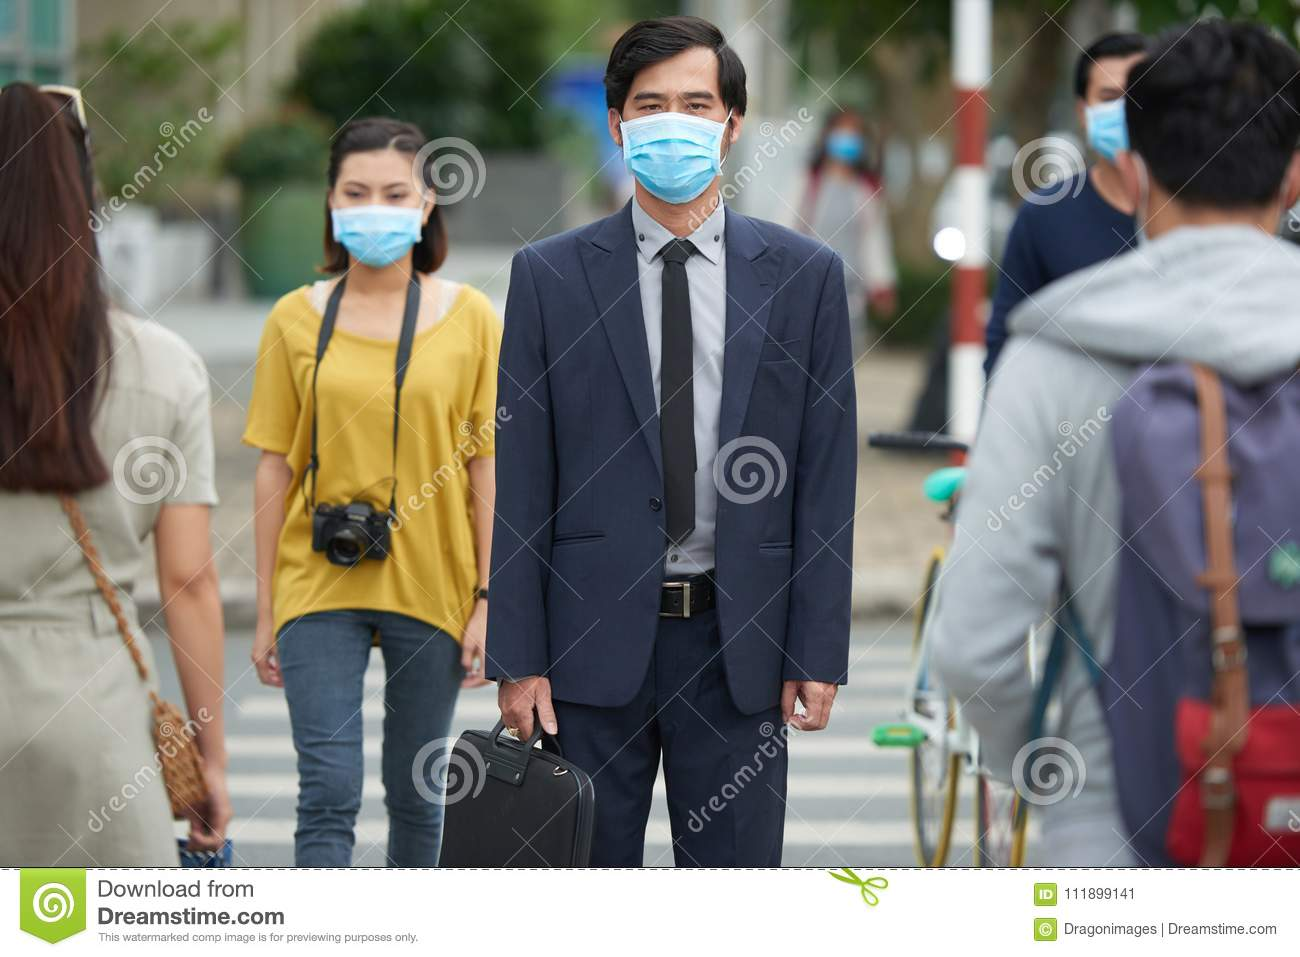mask: (617, 108, 723, 207), (333, 205, 420, 261)
